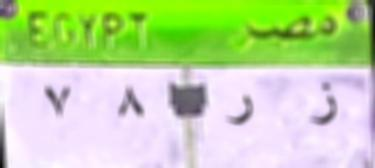7: (42, 78, 74, 124)
8: (112, 81, 146, 126)
raa: (219, 89, 258, 132)
zay: (306, 75, 340, 130)
